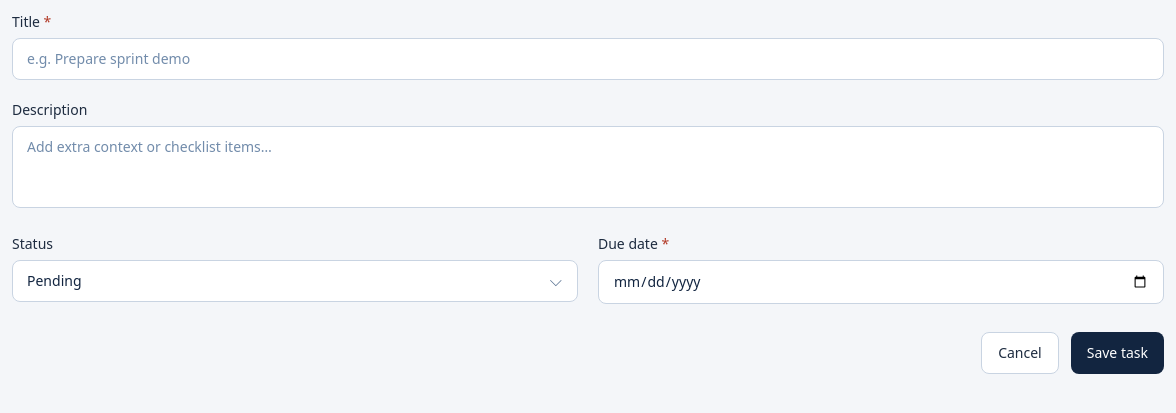
Test: TaskForm › shows a due date error when the date is missing
Type "New task" into the field with id "task-title" at (588, 59), box top-left (12, 38), bottom-right (1164, 80)
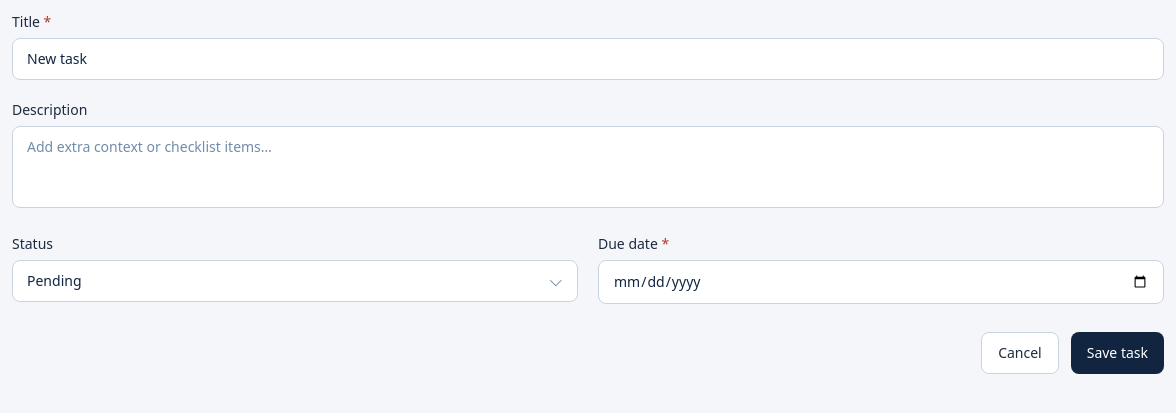
Submit the form
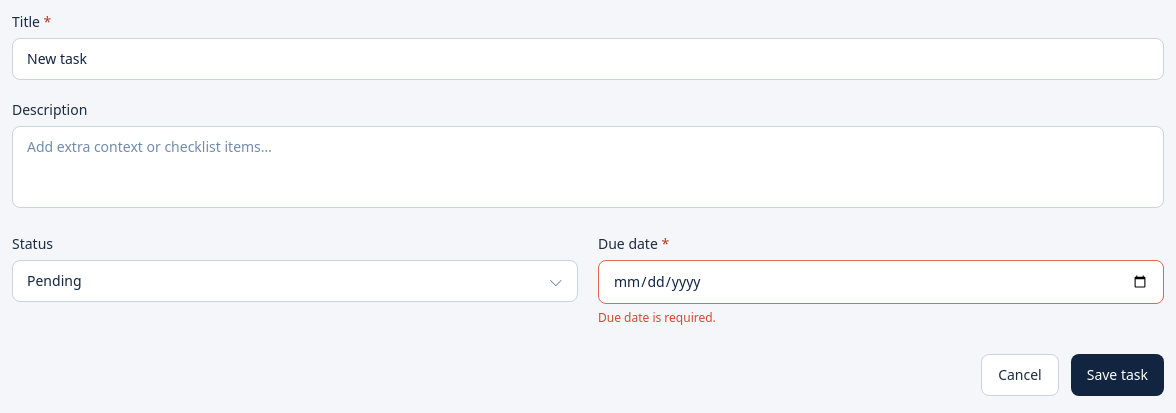
expect the form shows "Due date is required.": met, box top-left (598, 309), bottom-right (716, 326)
